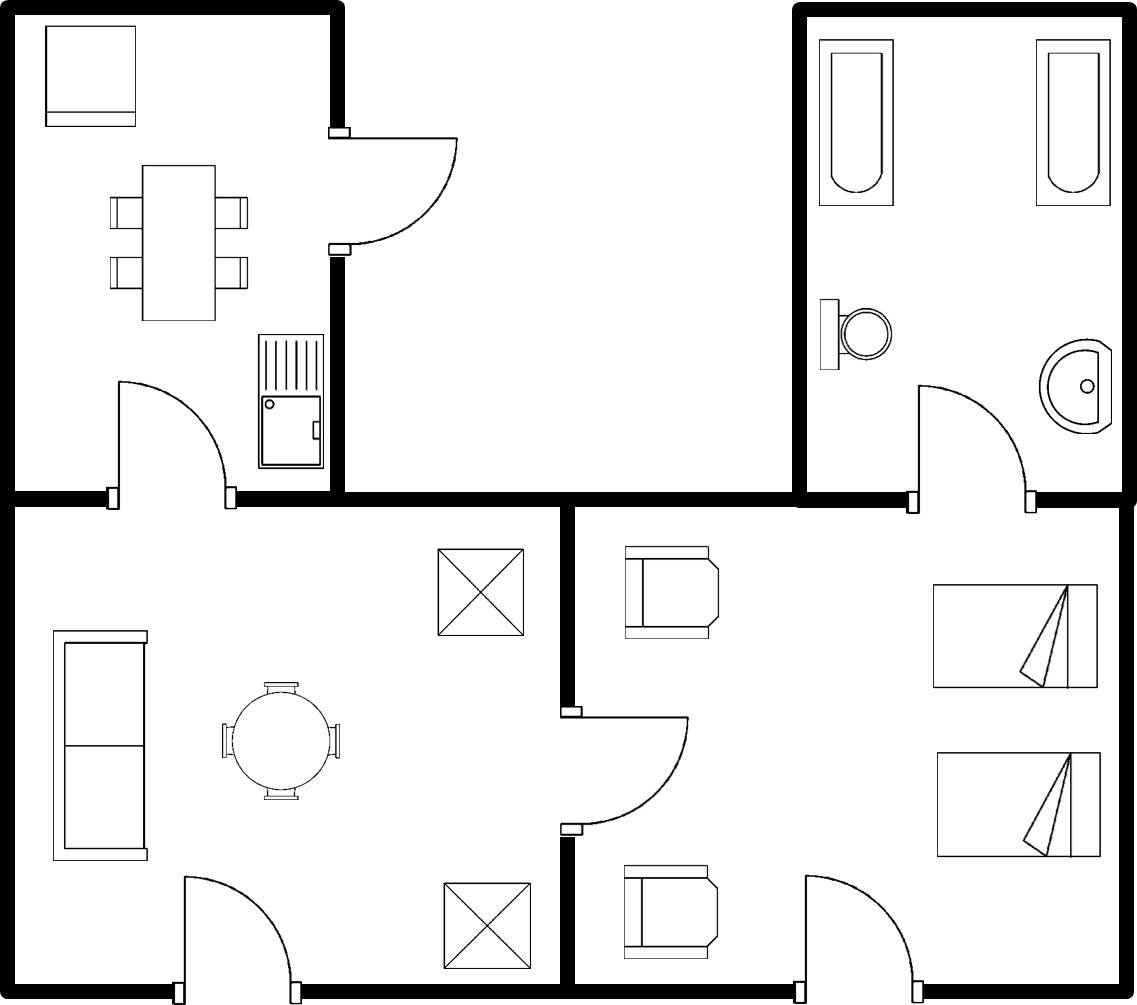armchair: (613, 860, 725, 969), (617, 537, 725, 648)
bed: (928, 742, 1108, 866), (923, 579, 1105, 697)
coffee_table: (422, 540, 534, 643), (433, 872, 538, 979)
dining_table: (104, 158, 253, 331)
large_sink: (815, 287, 899, 383)
large_sofa: (43, 623, 157, 874)
round_table: (216, 676, 348, 808)
sink: (250, 327, 331, 479)
small_sink: (1032, 331, 1119, 441)
small_sofa: (40, 20, 144, 136)
tub: (1026, 31, 1118, 211), (813, 32, 902, 214)
